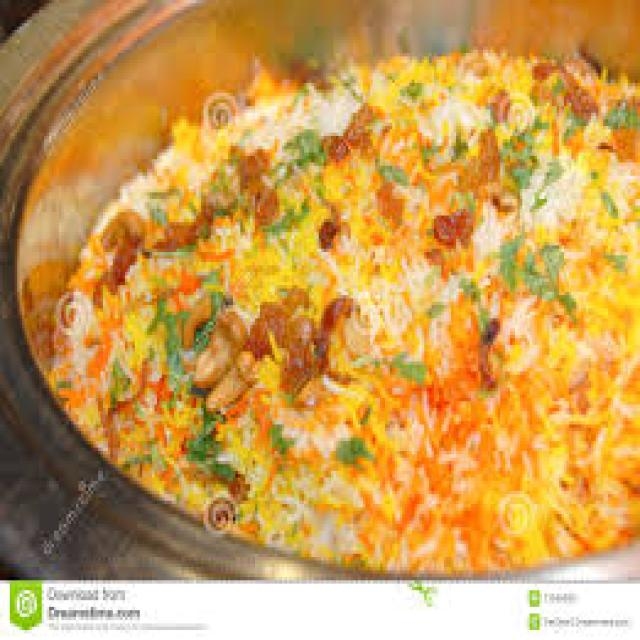Wet Waste: (34, 3, 640, 567)
